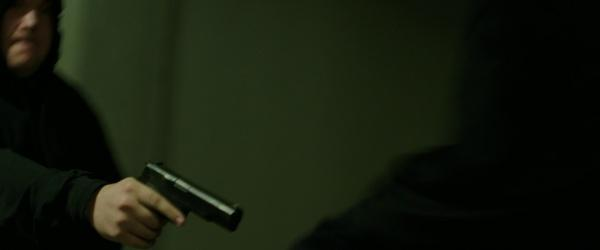Gun: (137, 162, 243, 233)
